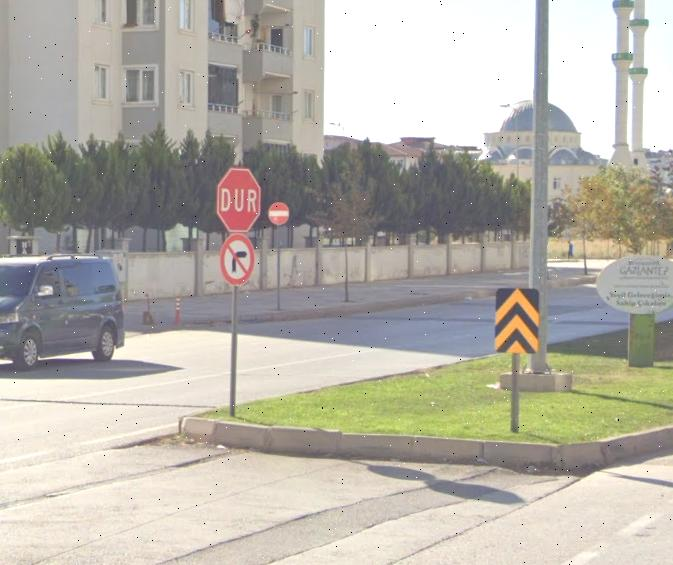rightturnsareforbidden: (221, 234, 256, 285)
stop: (216, 166, 260, 233)
